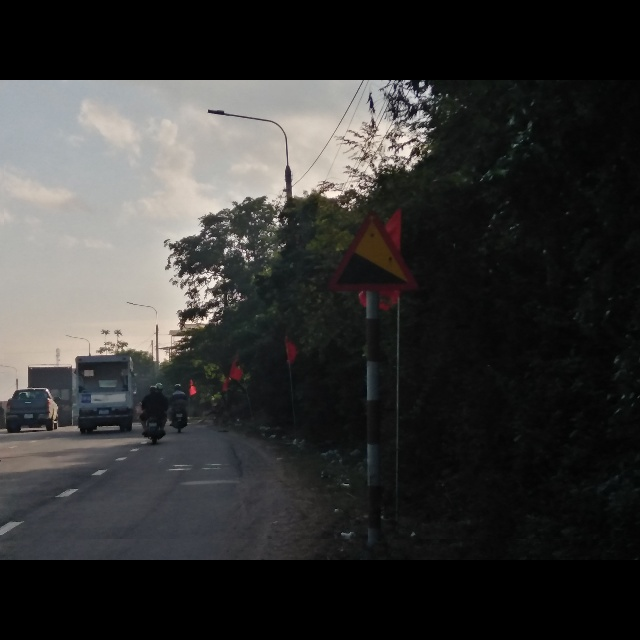Dốc lên nguy hiểm: (327, 208, 419, 295)
